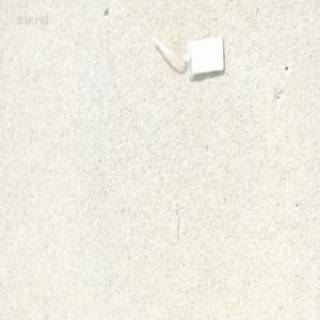LuggageTagtrack_idkeyframe: (148, 31, 226, 81)
